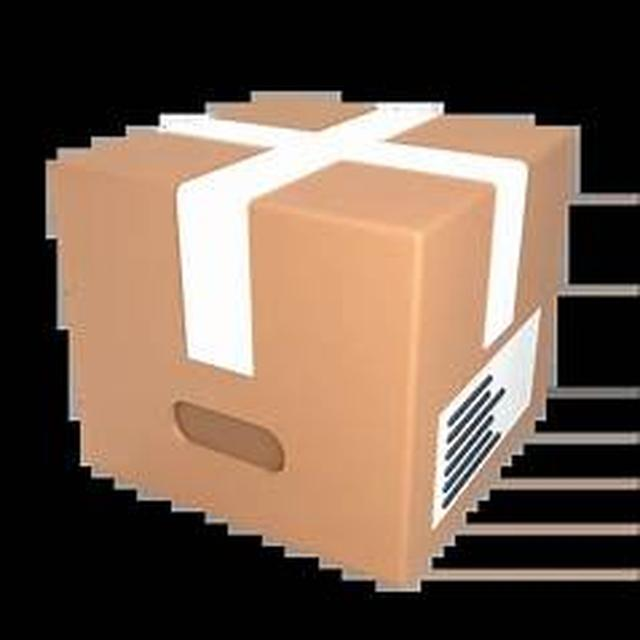box: (27, 80, 589, 600)
